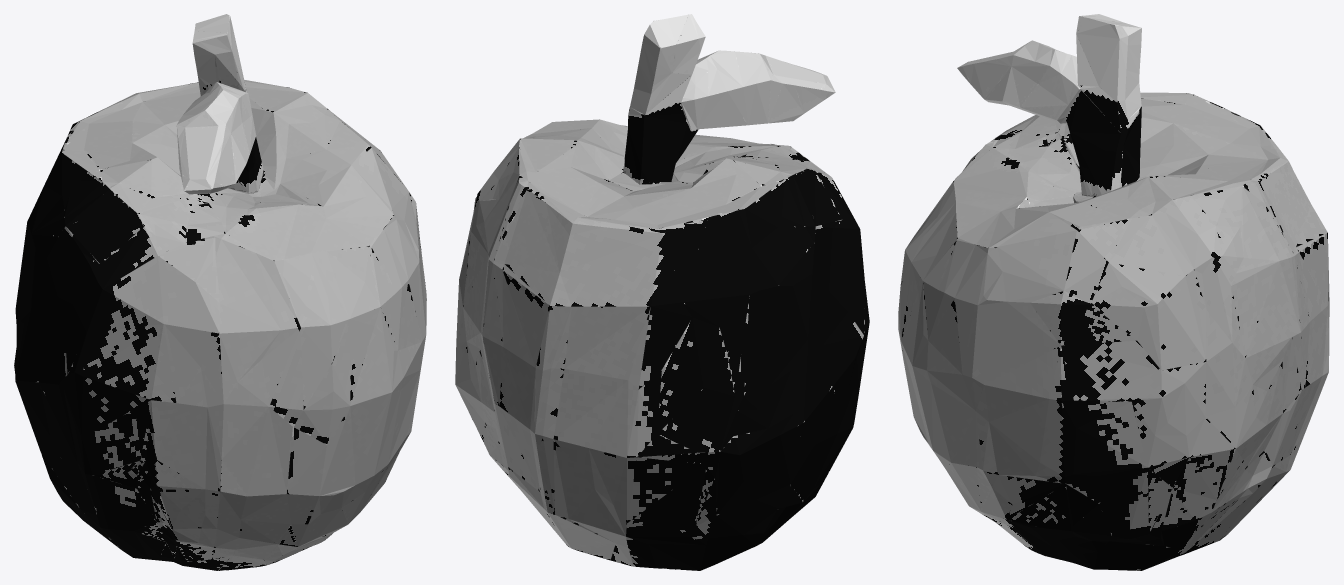
3 views of the same model, side by side, from view 1: azimuth 30°, elevation 25°; view 2: azimuth 150°, elevation 25°; view 3: azimuth 270°, elevation 25° (orthographic). The views are drawn at different scales.
Parts seen in each view (by area): view 1: OBJ0b3; view 2: OBJ0b3; view 3: OBJ0b3.
Boxes of the visible parts, bbox=[...] form: OBJ0b3: bbox=[14, 14, 426, 570]; OBJ0b3: bbox=[455, 14, 869, 570]; OBJ0b3: bbox=[898, 14, 1329, 570].
Bounding box in the file's own units: 0.1816 × 0.2508 × 0.1914.
Materials: 1 (1 with a texture image).
